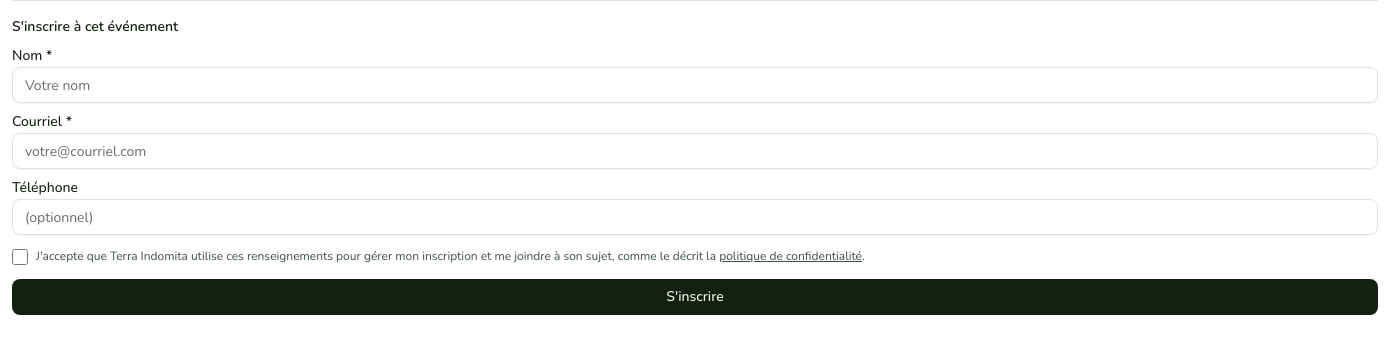
Test case: RegistrationForm › does not submit with invalid email
The image size is (1390, 352).
Type "Jean Test" into the field with placeholder "Votre nom" at (695, 85), box left=12, top=67, right=1378, bottom=103
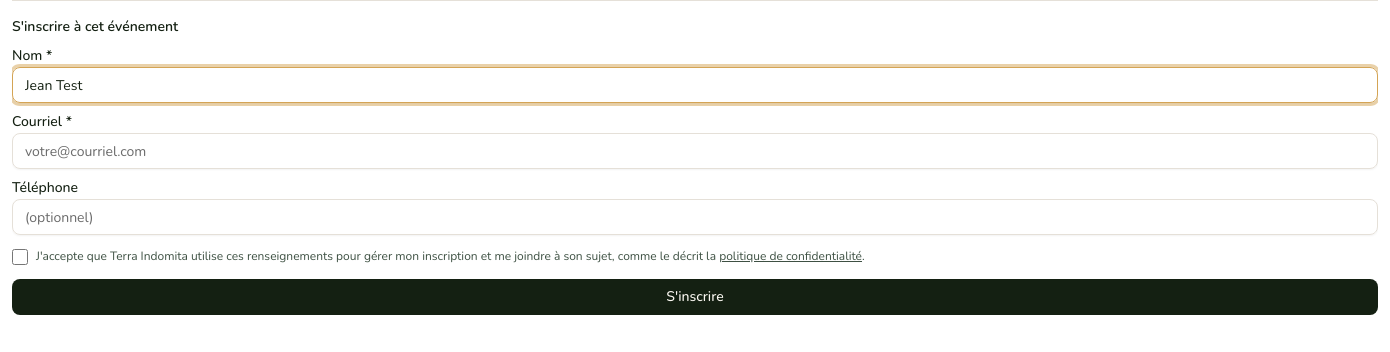
Type "invalid" into the field with placeholder "votre@courriel.com" at (695, 151), box left=12, top=133, right=1378, bottom=169
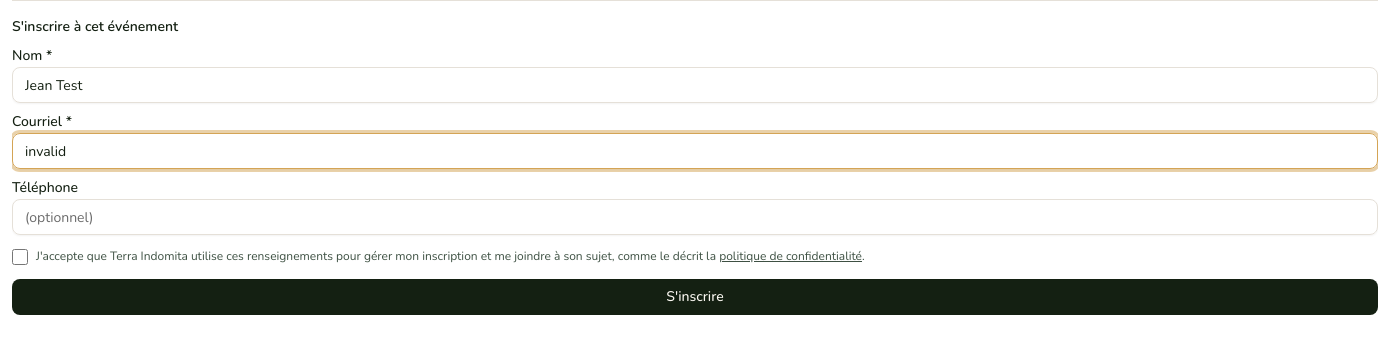
Click the checkbox at (20, 257), box left=12, top=249, right=28, bottom=265
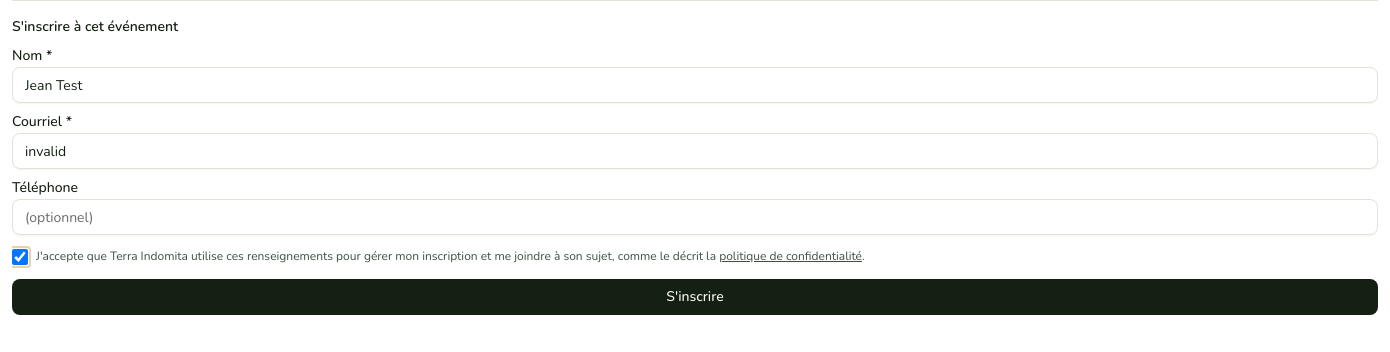
Click the button "S'inscrire" at (695, 296), box left=12, top=278, right=1378, bottom=314
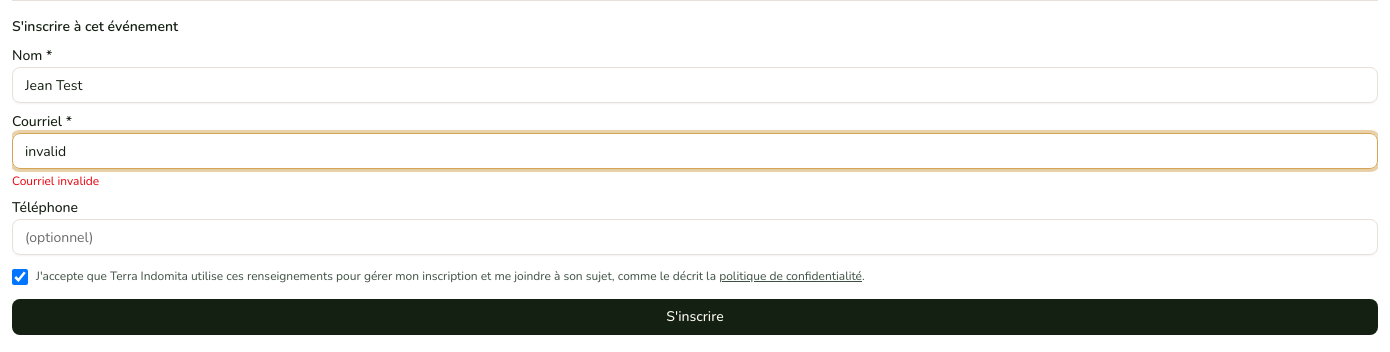
Now the text "Courriel invalide" is shown, box left=12, top=173, right=99, bottom=189
